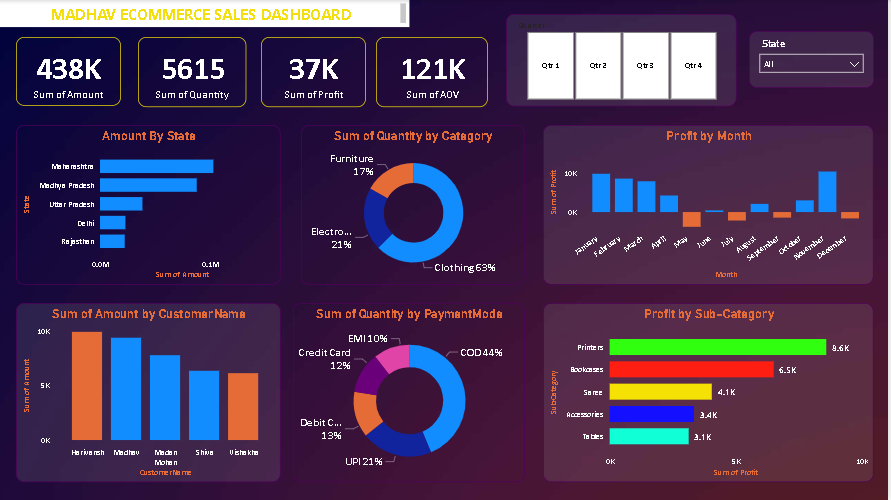

This screenshot's page, from the dashboard's own definition file:
{"tool":"powerbi","page":{"name":"Page 1","canvas":[1280,720],"ordinal":0},"visuals":[{"type":"textbox","box":[0,0,590.5,38.6],"z":0},{"type":"columnChart","title":" Profit by Month","fields":{"Y":["Details.Profit"],"Category":["Orders.Order Date.Variation.Date Hierarchy.Month"]},"box":[783.4,179.5,476.4,229.8],"z":1000},{"type":"barChart","title":" Profit by Sub-Category","fields":{"Category":["Details.Sub-Category"],"Y":["Details.Profit"]},"box":[783.4,436.2,476.4,258.3],"z":2000},{"type":"donutChart","fields":{"Category":["Details.Category"],"Y":["Details.Quantity"]},"box":[434.5,179.5,322.1,229.8],"z":3000},{"type":"donutChart","fields":{"Category":["Details.PaymentMode"],"Y":["Details.Quantity"]},"box":[422.8,436.2,333.8,258.3],"z":4000},{"type":"card","fields":{"Values":["Details.Amount"]},"box":[25.2,53.7,151,99],"z":5000},{"type":"card","fields":{"Values":["Details.Profit"]},"box":[377.5,53.7,151,100.7],"z":6000},{"type":"card","fields":{"Values":["Details.Quantity"]},"box":[199.6,53.7,156,100.7],"z":7000},{"type":"card","fields":{"Values":["Details.AVG"]},"box":[543.5,53.7,161,100.7],"z":8000},{"type":"barChart","title":"Amount By State","fields":{"Y":["Details.Amount"],"Category":["Orders.State"]},"box":[25.2,179.5,380.8,229.8],"z":9000},{"type":"columnChart","fields":{"Category":["Orders.CustomerName"],"Y":["Details.Amount"]},"box":[25.2,436.2,380.8,258.3],"z":10000},{"type":"slicer","fields":{"Values":["Orders.Order Date.Variation.Date Hierarchy.Quarter"]},"box":[729.8,20.1,332.2,132.5],"z":11000},{"type":"slicer","fields":{"Values":["Orders.State"]},"box":[1080.4,45.3,179.5,82.2],"z":11001}]}

Visuals, with their boxes in screenshot pixels (x1, y1, x2, y2), scaled from the page's 1280x720 canvas onto the 891x500 screenshot:
textbox: crop(0, 0, 411, 27)
" Profit by Month" columnChart: crop(545, 125, 877, 284)
" Profit by Sub-Category" barChart: crop(545, 303, 877, 482)
donutChart - Details.Category x Details.Quantity: crop(302, 125, 527, 284)
donutChart - Details.PaymentMode x Details.Quantity: crop(294, 303, 527, 482)
card - Details.Amount: crop(18, 37, 123, 106)
card - Details.Profit: crop(263, 37, 368, 107)
card - Details.Quantity: crop(139, 37, 248, 107)
card - Details.AVG: crop(378, 37, 490, 107)
"Amount By State" barChart: crop(18, 125, 283, 284)
columnChart - Orders.CustomerName x Details.Amount: crop(18, 303, 283, 482)
slicer - Orders.Order Date.Variation.Date Hierarchy.Quarter: crop(508, 14, 739, 106)
slicer - Orders.State: crop(752, 31, 877, 89)
